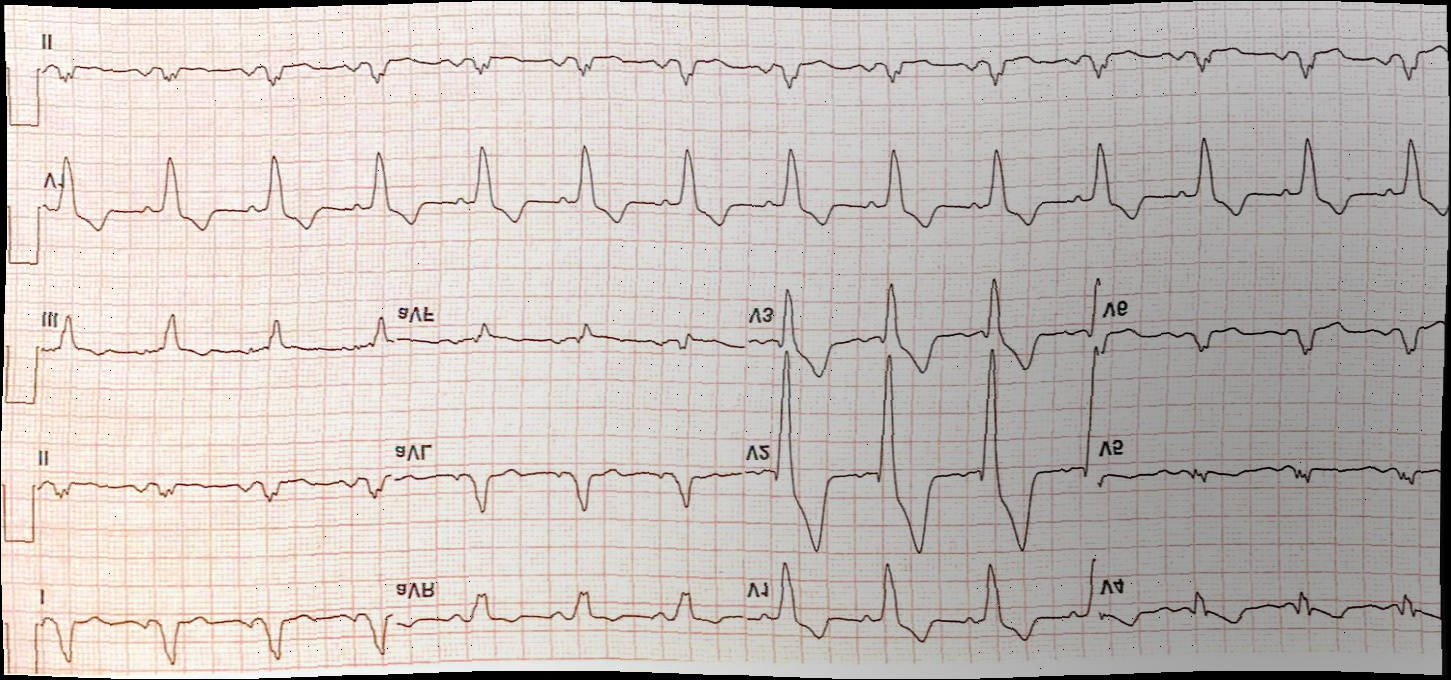Lead_I: (36, 559, 393, 673)
Lead_II: (35, 425, 395, 545)
Lead_III: (33, 282, 394, 403)
Lead_II_ext: (33, 16, 1447, 100)
Lead_V1: (33, 124, 398, 260), (742, 546, 1105, 660)
Lead_V2: (747, 342, 1105, 560), (743, 265, 1106, 388)
Lead_V4: (1102, 552, 1447, 665)
Lead_V5: (1101, 423, 1449, 531)
Lead_V6: (1103, 271, 1449, 389)
Lead_aVF: (394, 285, 745, 397)
Lead_aVL: (391, 420, 750, 548)
Lead_aVR: (393, 544, 744, 671)
